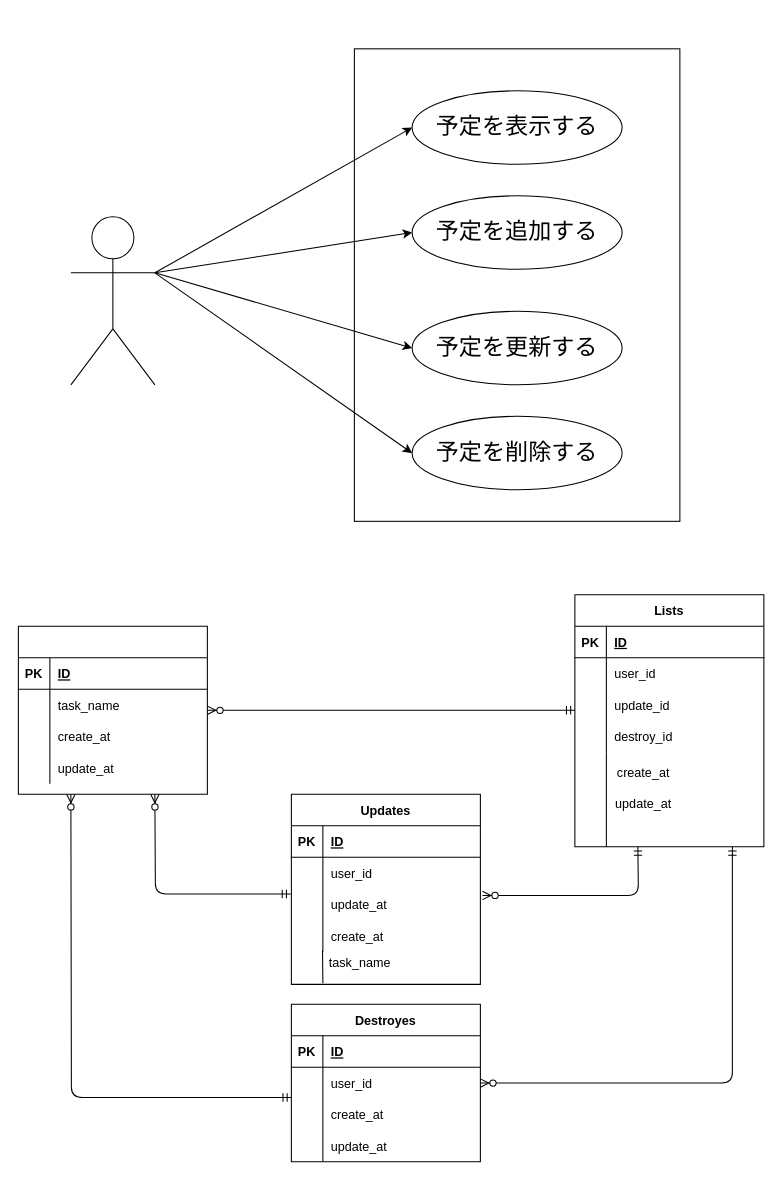
Image size: 782x1180. Some labels were removed from this diagram. Here are the shapes that lost their labels. From the top down, the box of each, then its label:
(70, 216, 155, 385): ユーザー
(353, 48, 680, 521): To Do List
(17, 625, 207, 794): Users
